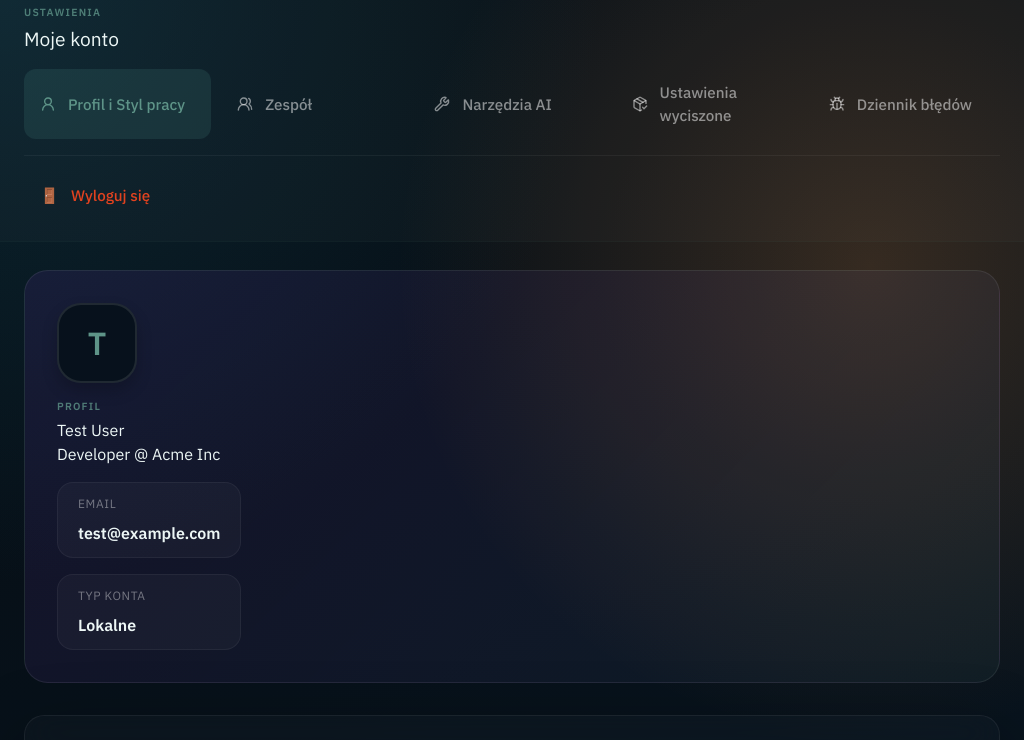
Test: ProfileTab › Tag Manager Section › renders tag manager section with tag count
Click the button "Narzędzia AI": (512, 104) [418,69,606,139]
(page scrolled)
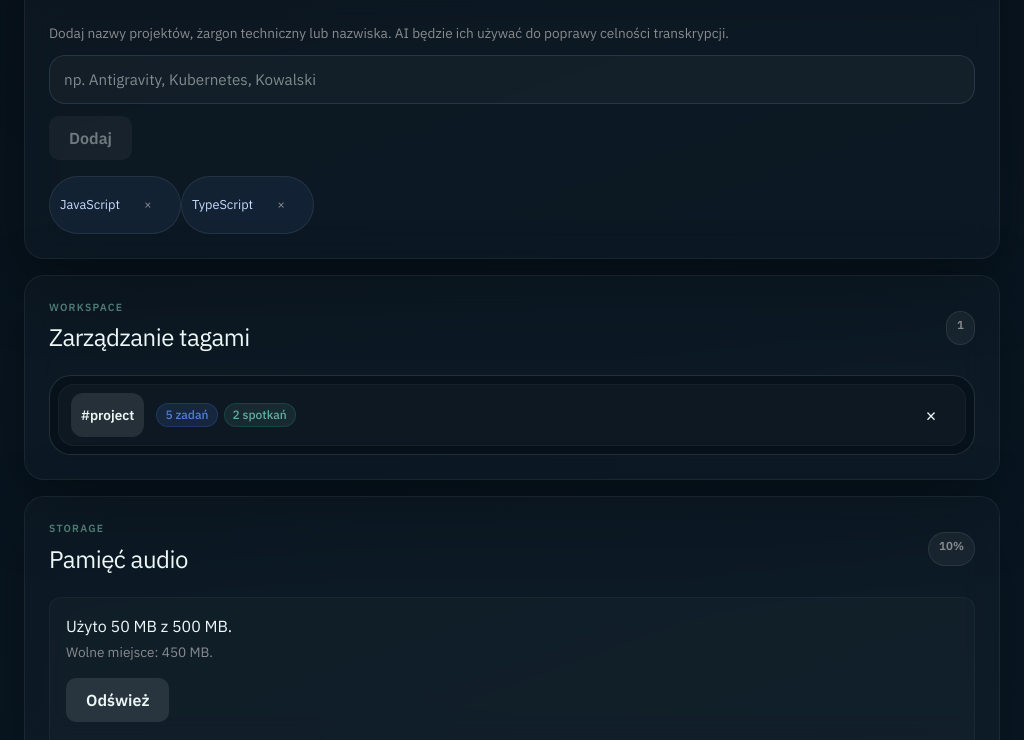
Expected: the heading "Zarządzanie tagami" is shown, [49,320,250,356]
Expected: the text "1" is shown, [946,311,975,345]
